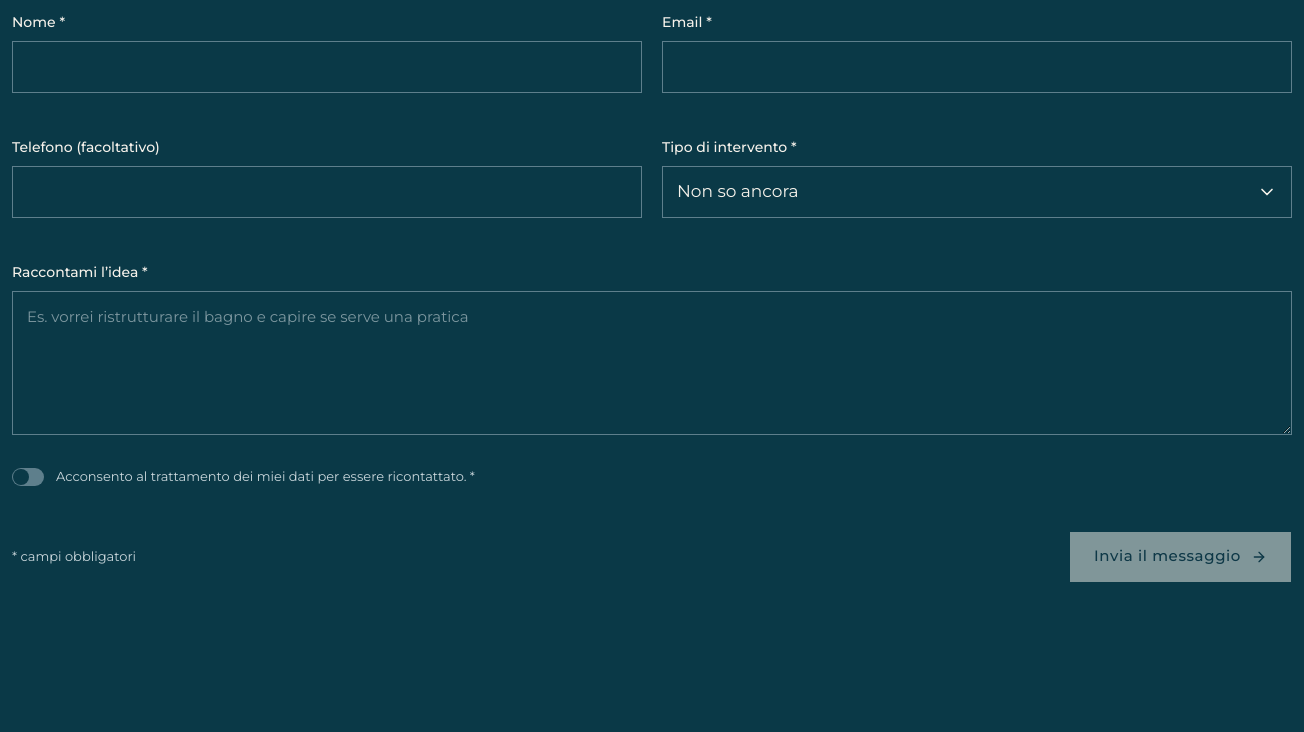
Test: ContactForm › shows the errors returned by the server under each field
The width and height of the screenshot is (1304, 732).
In the field labelled "Nome *": [327, 67] box [12,41,642,93], type "Mario Bianchi"
In the field labelled "Email *": [977, 67] box [662,41,1292,93], type "mario@example.com"
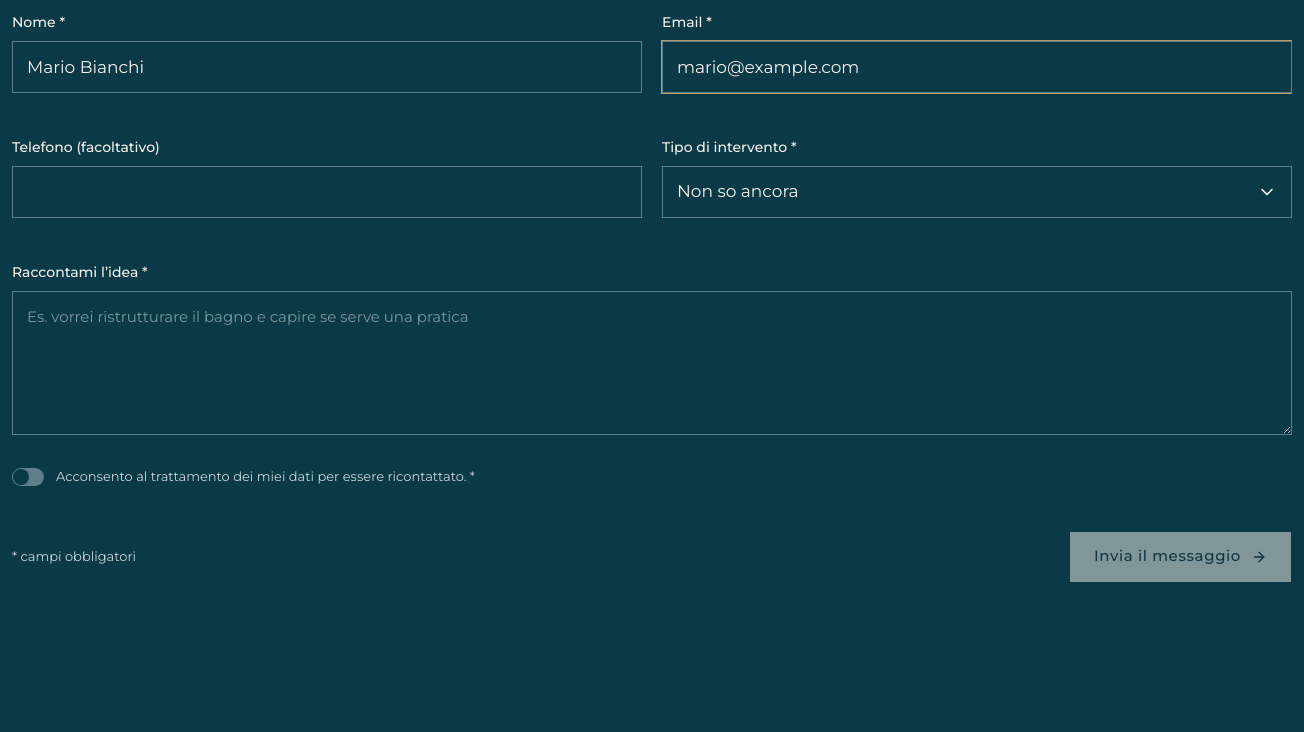
Click the dropdown named "Tipo di intervento *": [738, 191] box [662,166,1292,218]
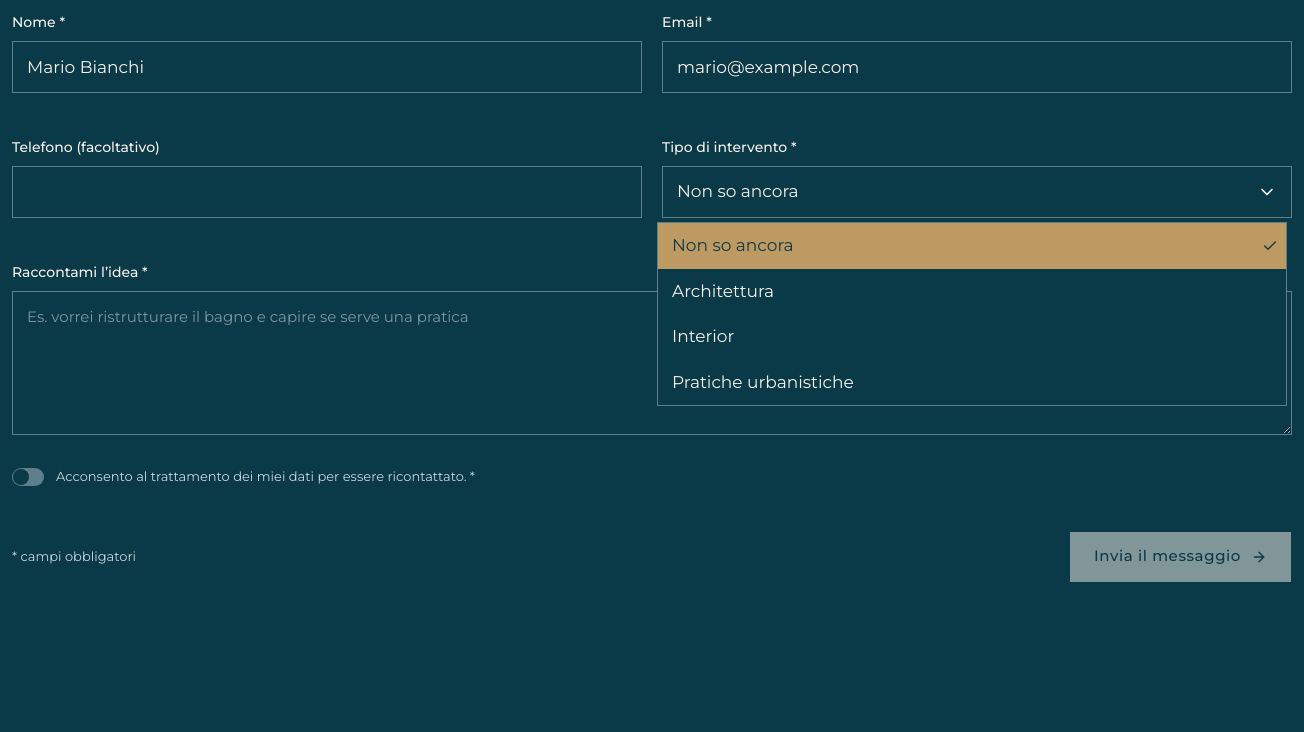
Click the option "Pratiche urbanistiche": [763, 382] box [672,372,854,392]
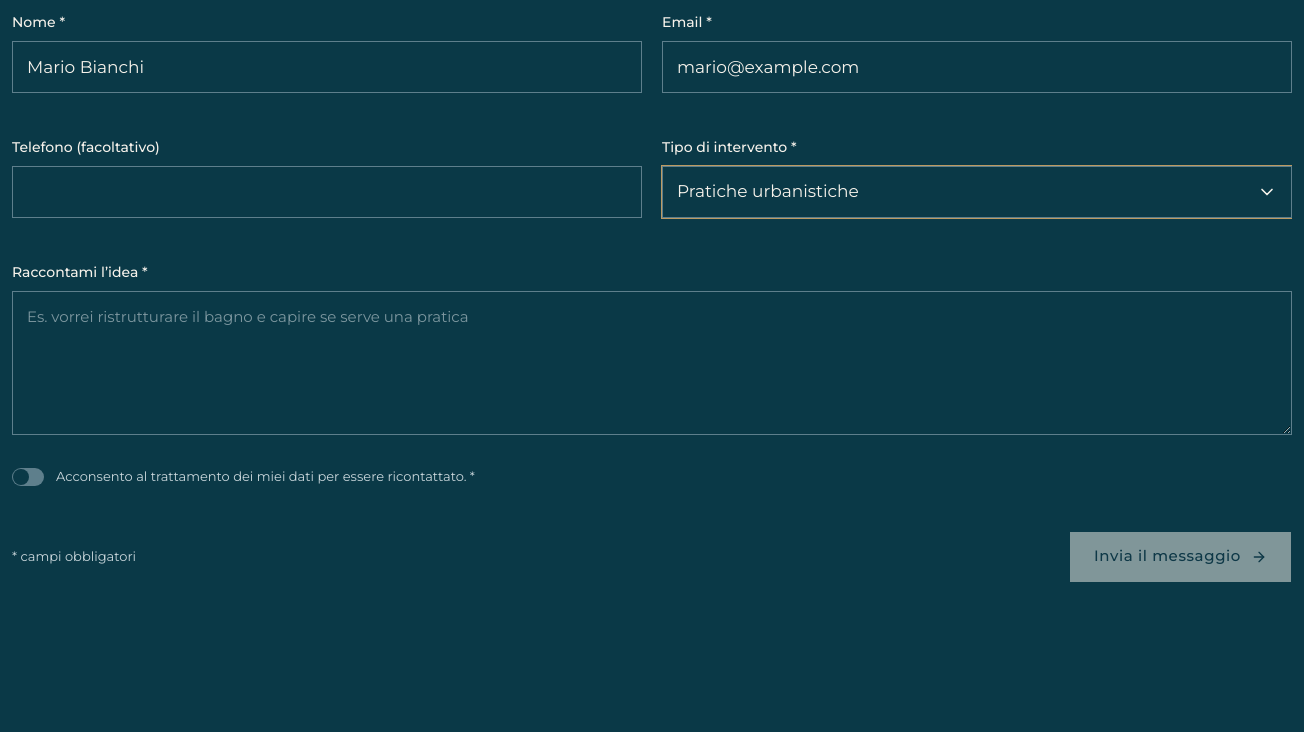
In the text box labelled "Raccontami l’idea *": [652, 363] box [12,291,1292,435], type "Vorrei ristrutturare il bagno."
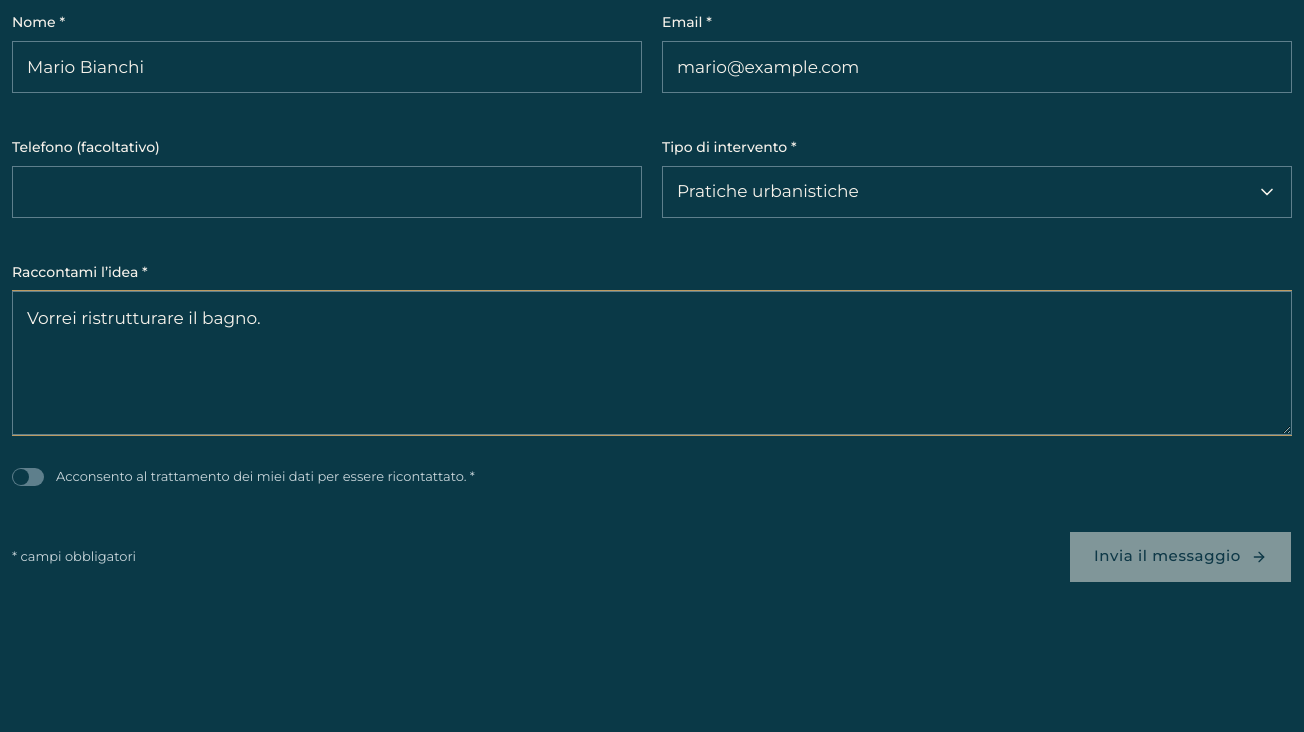
Click the switch named "trattamento dei miei dati": [28, 477] box [12,468,44,486]
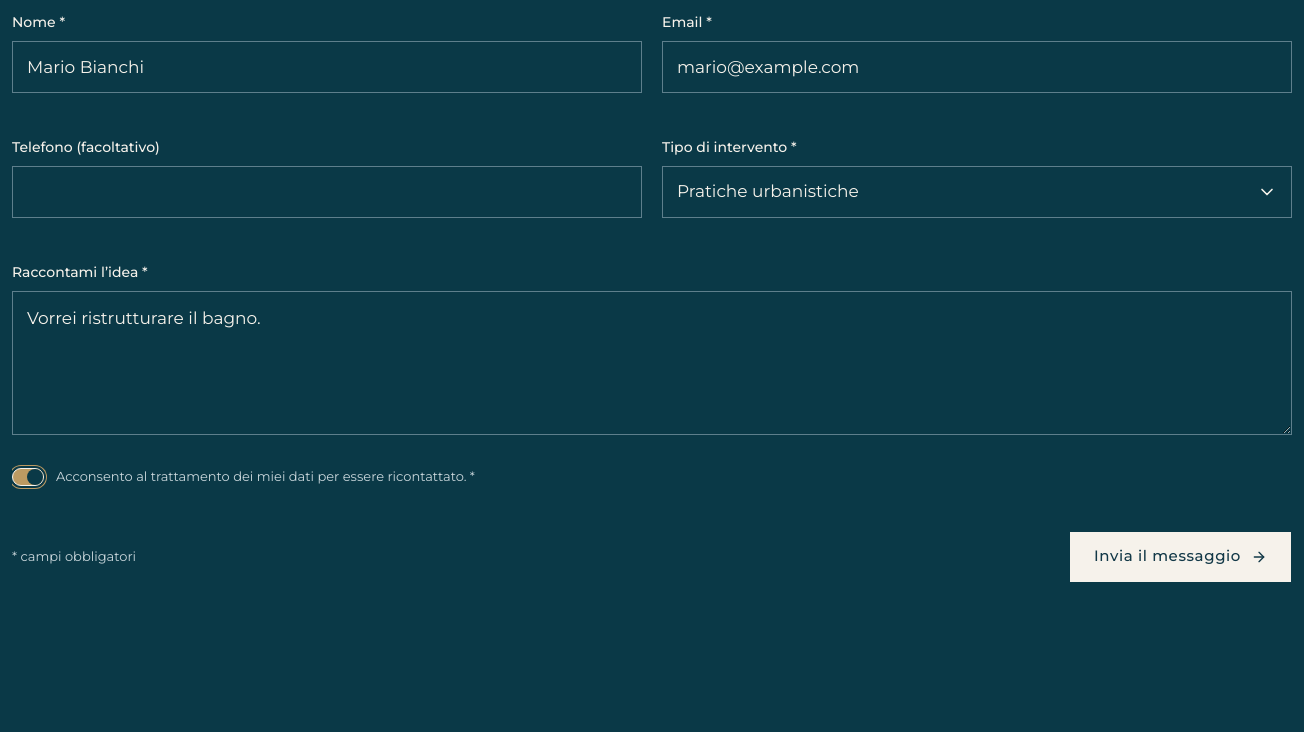
Click the button "Invia il messaggio": [1180, 556] box [1069,530,1292,582]
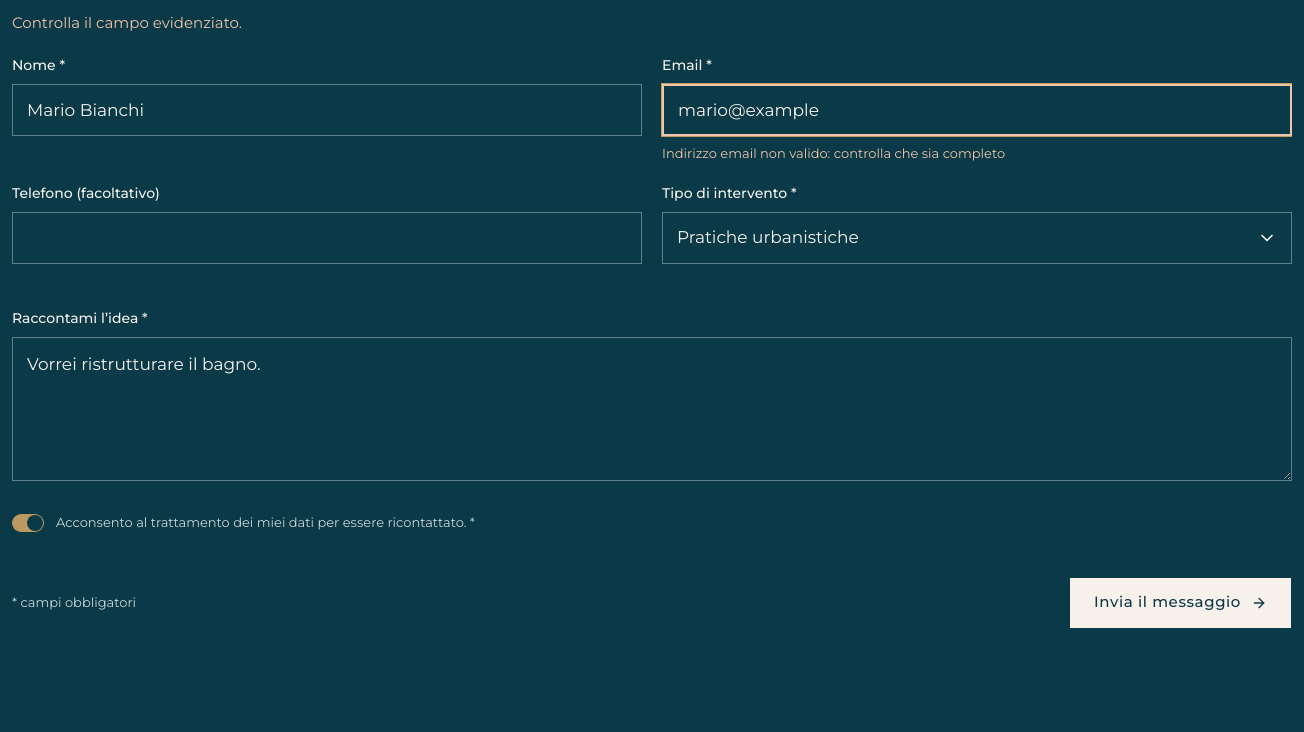
expect the switch is checked: met, box [12,514,44,532]
expect the text "Controlla il campo evidenziato." is shown: met, box [12,13,242,32]
